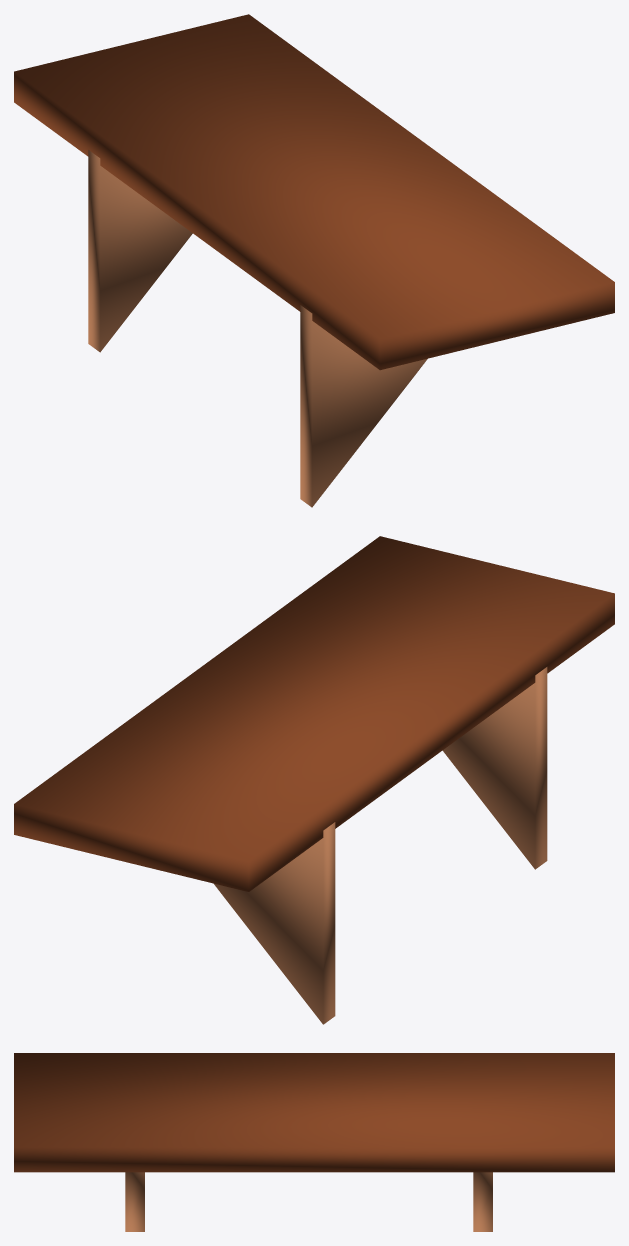
File: 3dmodel6489c89789971stand.glb
The picture shows the model from 3 angles, top to bottom: view 1: azimuth 30°, elevation 25°; view 2: azimuth 150°, elevation 25°; view 3: azimuth 270°, elevation 25°; orthographic projection. The views are drawn at different scales.
Visible parts, largest first — view 1: Cube; view 2: Cube; view 3: Cube.
Part boxes in pixels (x1,y1,x2,y2): Cube: [14, 14, 614, 507]; Cube: [14, 536, 614, 1024]; Cube: [14, 1053, 614, 1231].
Bounding box in the file's own units: 2 × 1.77 × 5.4.
